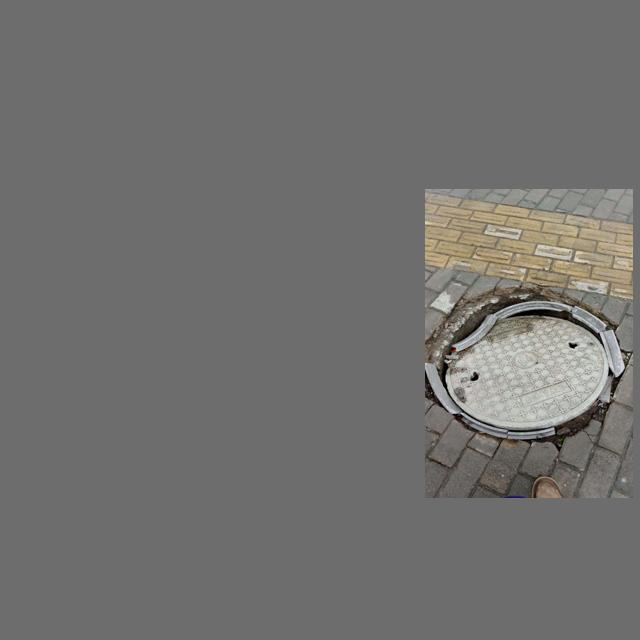circle: (428, 285, 630, 447)
